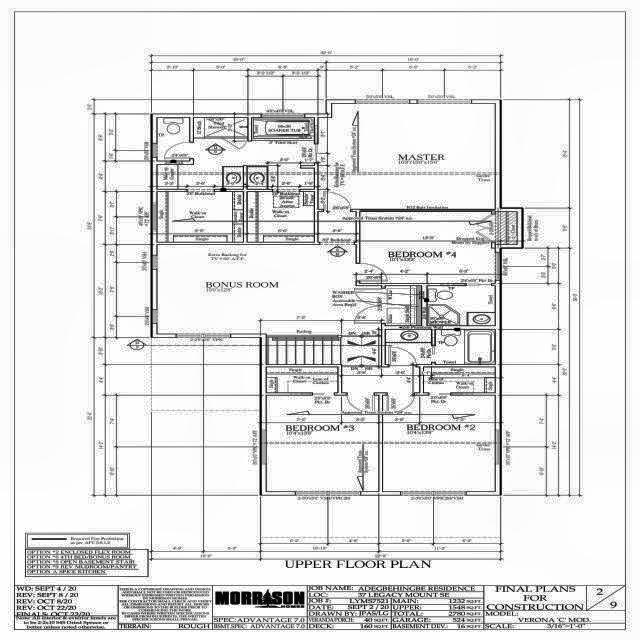room: (157, 245, 420, 393), (318, 104, 495, 209), (157, 118, 314, 189), (266, 395, 379, 491), (383, 395, 495, 491), (360, 212, 495, 283), (157, 192, 243, 242), (247, 192, 314, 242), (427, 286, 495, 326), (436, 330, 495, 364), (266, 367, 338, 393), (424, 367, 495, 393), (386, 329, 431, 364), (157, 118, 190, 161), (386, 286, 421, 326), (318, 212, 356, 242)
